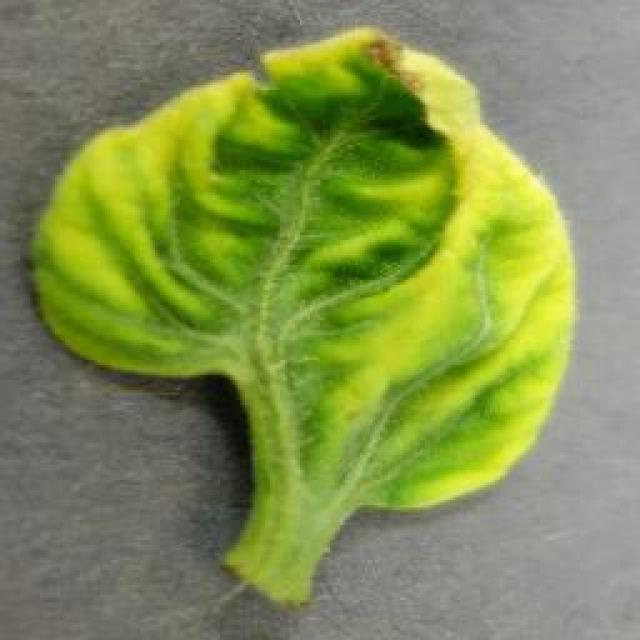Tomato yellow virus leaf: (29, 19, 577, 508)
